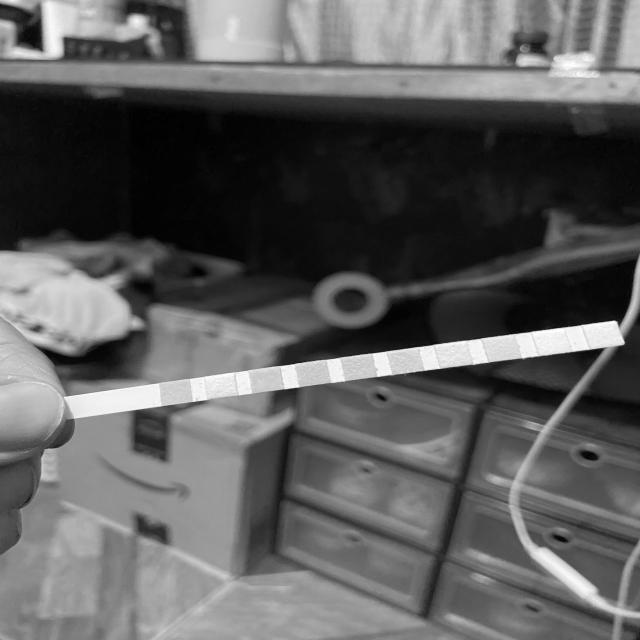Bilirubin: (207, 376, 234, 396)
Blood: (344, 357, 373, 378)
Glucose: (162, 383, 190, 402)
Ketone: (251, 370, 281, 390)
Leukocytes: (587, 324, 618, 346)
Nitrite: (537, 331, 566, 353)
Protein: (440, 344, 467, 365)
SpGravity: (300, 363, 326, 384)
Urobilinogen: (490, 337, 516, 359)
background: (0, 0, 640, 640)
pH: (392, 351, 419, 372)
strip: (66, 321, 626, 420)
